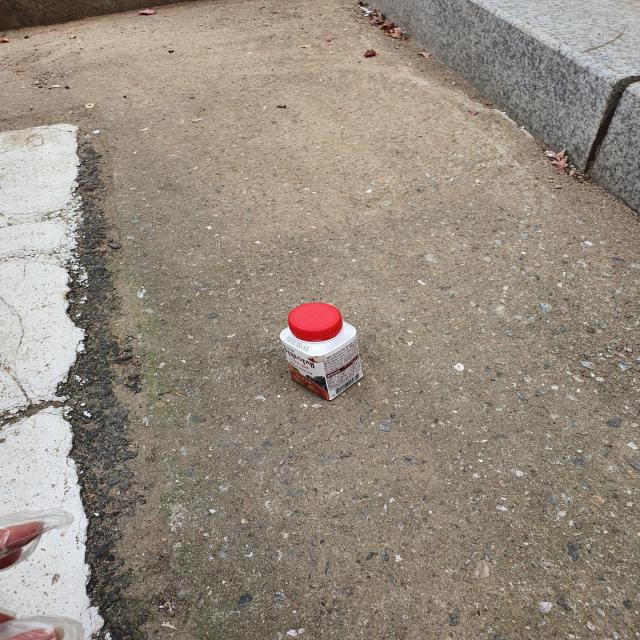paperpack: (280, 303, 363, 401)
